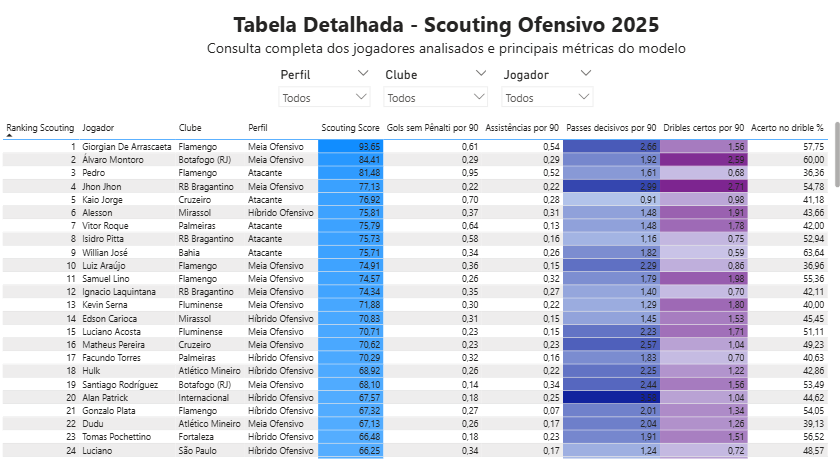

This screenshot's page, from the dashboard's own definition file:
{"tool":"powerbi","page":{"name":"Tabela de Scouting","canvas":[1280,720],"ordinal":1},"visuals":[{"type":"textbox","box":[297.1,0,683.4,96.6],"z":0},{"type":"textbox","box":[306.3,9.4,743.9,96.9],"z":1000},{"type":"slicer","fields":{"Values":["scouting_score_2025.Perfil"]},"box":[413.6,97.4,158.9,70.1],"z":2000},{"type":"slicer","fields":{"Values":["scouting_score_2025.Clube"]},"box":[572.8,96.9,178.5,70.5],"z":3000},{"type":"slicer","fields":{"Values":["scouting_score_2025.Jogador"]},"box":[751.3,96.9,158.6,70.5],"z":4000},{"type":"tableEx","fields":{"Values":["scouting_score_2025.Ranking Scouting","scouting_score_2025.Jogador","scouting_score_2025.Clube","scouting_score_2025.Perfil","scouting_score_2025.Scouting Score","scouting_score_2025.Gols sem Pênalti por 90","scouting_score_2025.Assistências por 90","scouting_score_2025.Passes decisivos por 90","scouting_score_2025.Dribles certos por 90","scouting_score_2025.Acerto no drible %"]},"box":[0,178.5,1280.5,541.5],"z":5000}]}

Visuals, with their boxes in screenshot pixels (x1, y1, x2, y2), scaled from the page's 1280x720 canvas onto the 840x459 screenshot:
textbox: <region>195, 0, 643, 62</region>
textbox: <region>201, 6, 689, 68</region>
slicer - scouting_score_2025.Perfil: <region>271, 62, 376, 107</region>
slicer - scouting_score_2025.Clube: <region>376, 62, 493, 107</region>
slicer - scouting_score_2025.Jogador: <region>493, 62, 597, 107</region>
tableEx - scouting_score_2025.Ranking Scouting x scouting_score_2025.Jogador: <region>0, 114, 839, 458</region>
